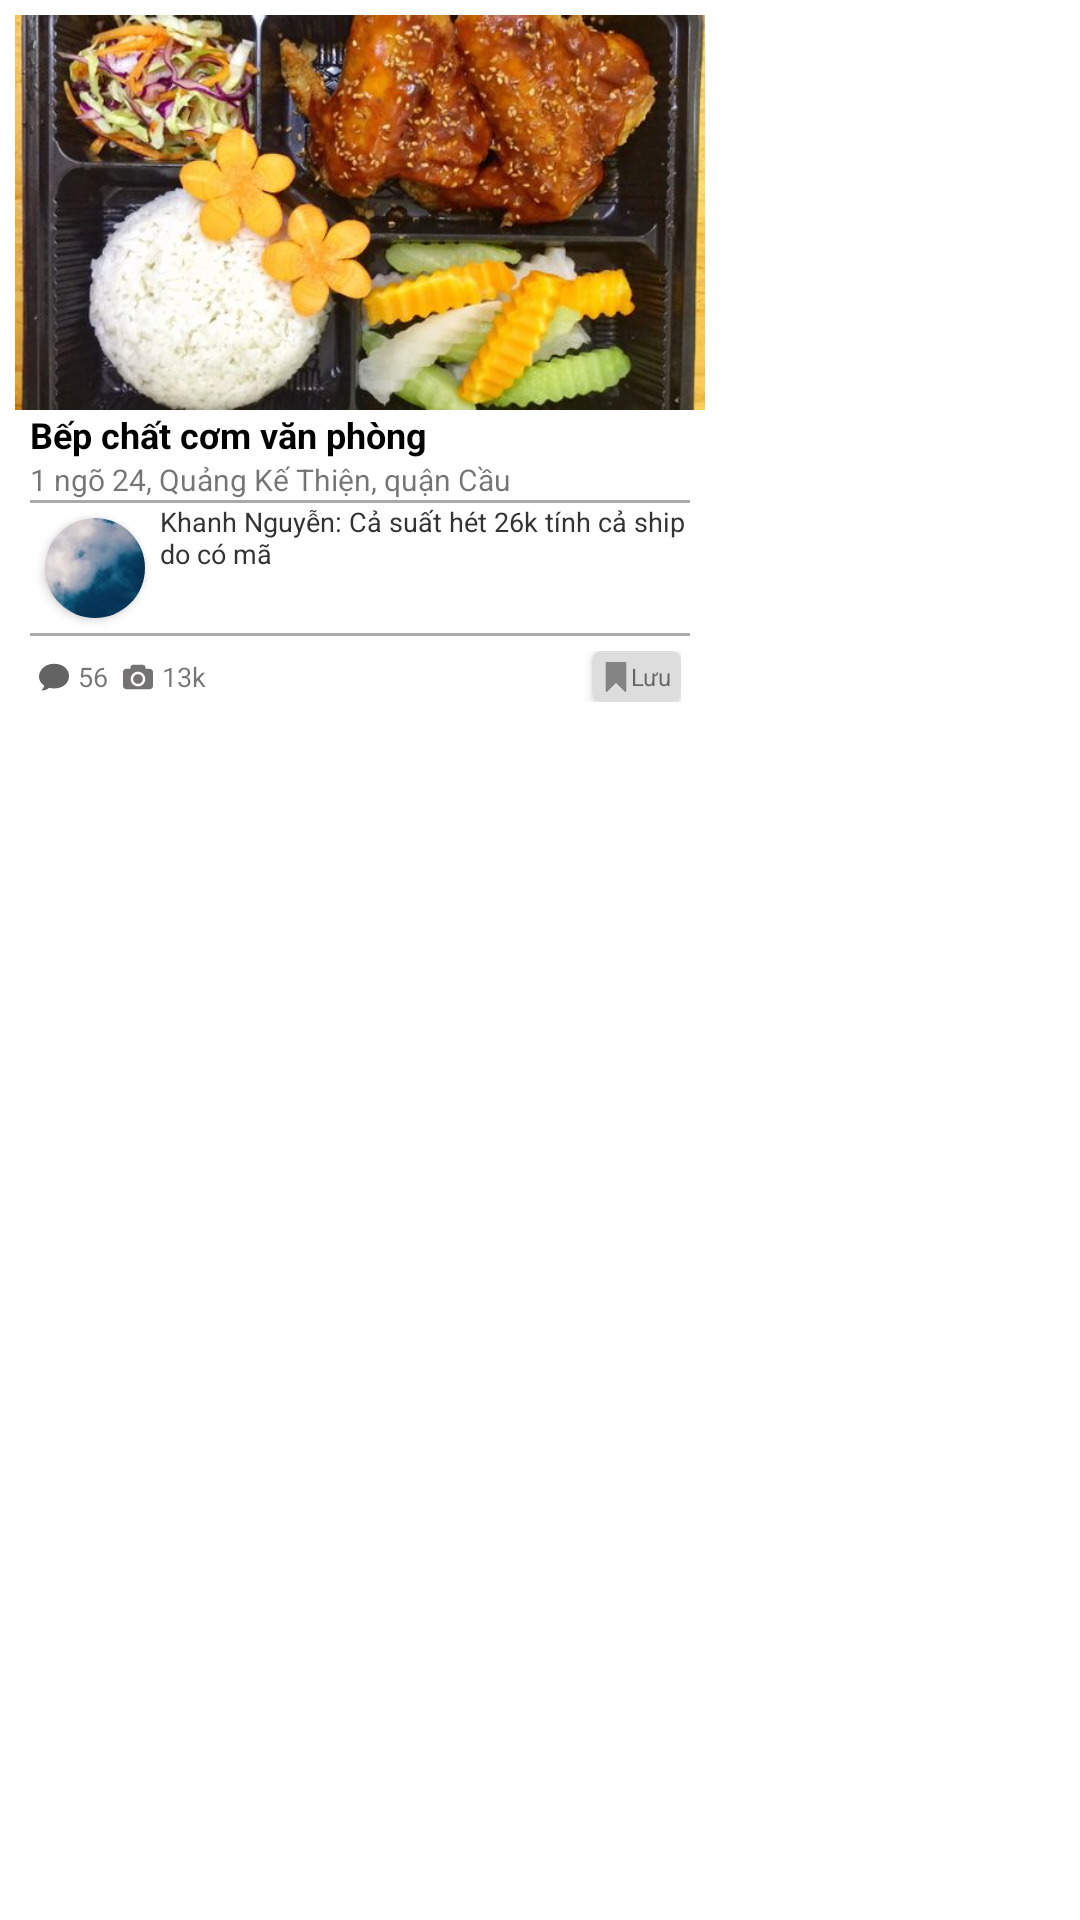

Icons on this 1080x1920 Android screen, each with its box as box(x1, y1, x2, y2):
avt: box(45, 518, 145, 618)
camera: box(123, 664, 153, 690)
commnent: box(39, 663, 69, 691)
